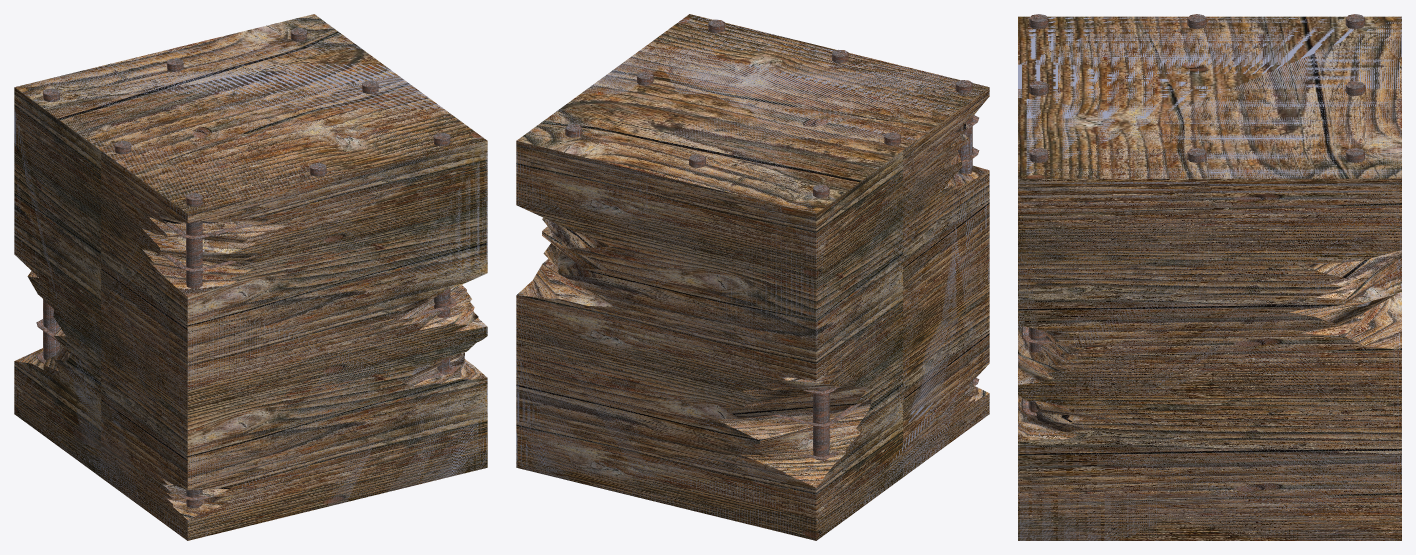
The picture shows the model from 3 angles, left to right: view 1: azimuth 30°, elevation 25°; view 2: azimuth 150°, elevation 25°; view 3: azimuth 270°, elevation 25°; orthographic projection. The views are drawn at different scales.
Visible parts, largest first — view 1: C-800sqr (×7), Rebar01 (×3); view 2: C-800sqr (×5), Rebar01 (×2); view 3: C-800sqr (×5), Rebar01.
Part boxes in pixels (<box>): C-800sqr (×7): <box>14,14,487,540</box>; Rebar01 (×3): <box>43,88,450,508</box>; C-800sqr (×5): <box>516,14,989,540</box>; Rebar01 (×2): <box>813,80,972,460</box>; C-800sqr (×5): <box>1018,16,1401,540</box>; Rebar01: <box>1029,147,1048,412</box>.
Size of the model in its own units: 37.8 by 37.8 by 40.16.
Materials: 4 (3 with a texture image).
